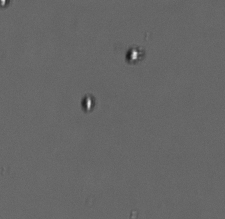Living Cell: (125, 44, 143, 64), (79, 93, 96, 113), (1, 1, 10, 11)
